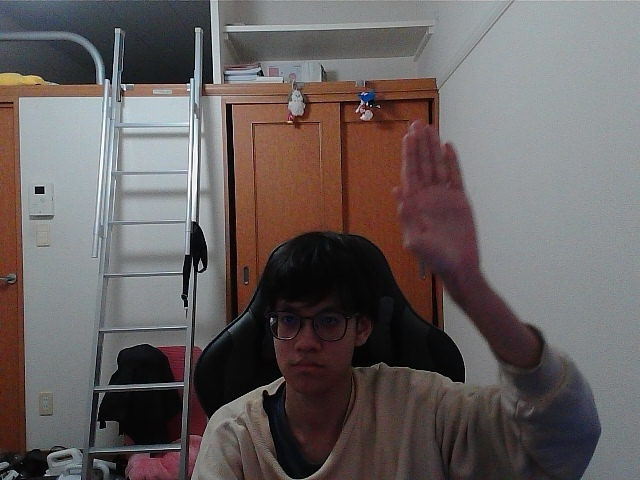open_palm: (403, 128, 458, 261)
